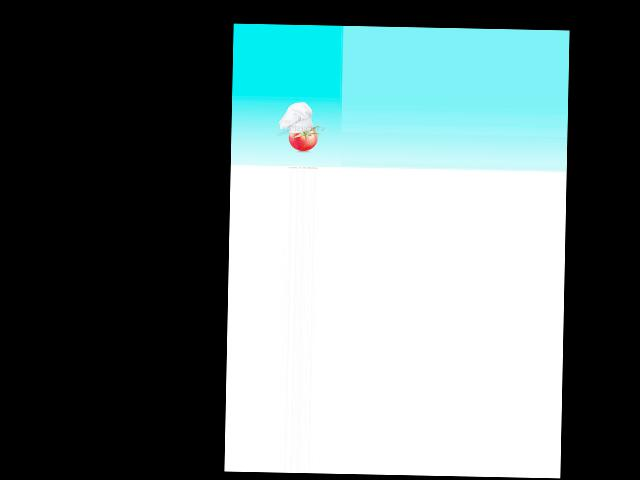tomato: (288, 126, 317, 150)
